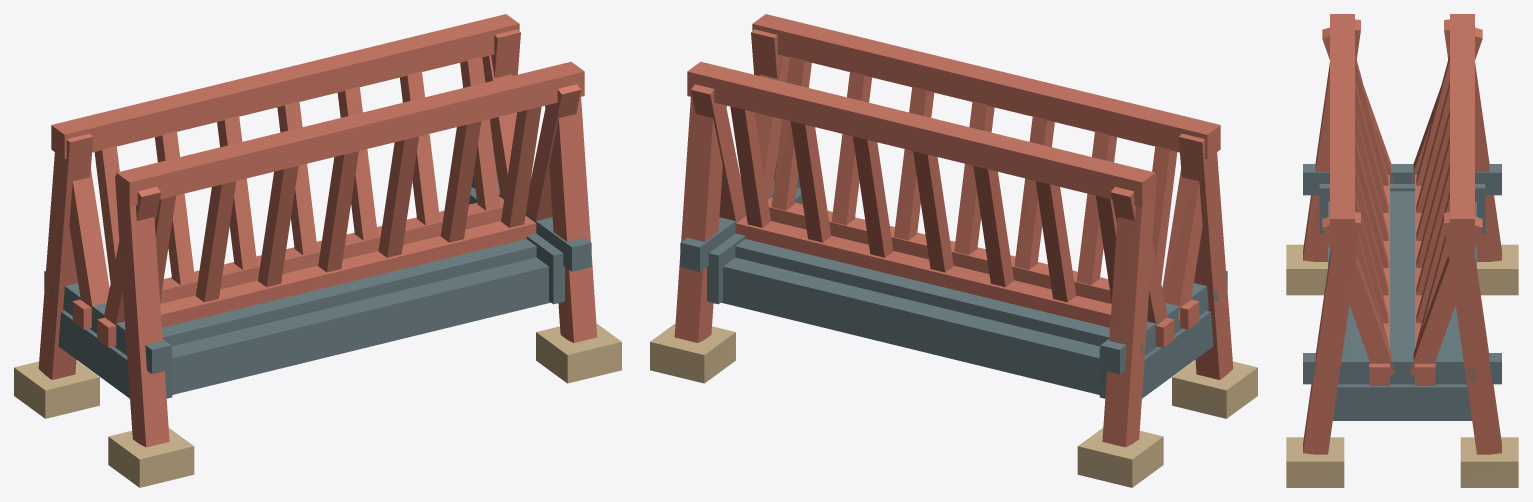
File: hay-rack.source.glb
3 views of the same model, side by side, from view 1: azimuth 30°, elevation 25°; view 2: azimuth 150°, elevation 25°; view 3: azimuth 270°, elevation 25° (orthographic). The views are drawn at different scales.
Visible parts, largest first — view 1: hay-rack-long-galvanized-catch-tray-mesh, hay-rack-top-longitudinal-rail-0.29-mesh, hay-rack-top-longitudinal-rail--0.29-mesh, hay-rack-bottom-longitudinal-rail-0.29-mesh, hay-rack-left-front-splayed-leg-mesh, hay-rack-catch-tray-inset-mesh, hay-rack-right-front-splayed-leg-mesh, hay-rack-left-rear-splayed-leg-mesh, hay-rack-bottom-longitudinal-rail--0.29-mesh, hay-rack-end-v-brace-rear--1.08-mesh, hay-rack-left-front-stone-foot-mesh, hay-rack-right-front-stone-foot-mesh (+22 smaller); view 2: hay-rack-long-galvanized-catch-tray-mesh, hay-rack-top-longitudinal-rail--0.29-mesh, hay-rack-top-longitudinal-rail-0.29-mesh, hay-rack-bottom-longitudinal-rail--0.29-mesh, hay-rack-left-rear-splayed-leg-mesh, hay-rack-catch-tray-inset-mesh, hay-rack-right-rear-splayed-leg-mesh, hay-rack-left-front-splayed-leg-mesh, hay-rack-bottom-longitudinal-rail-0.29-mesh, hay-rack-end-v-brace-front--1.08-mesh, hay-rack-left-rear-stone-foot-mesh, hay-rack-right-rear-stone-foot-mesh (+22 smaller); view 3: hay-rack-right-front-splayed-leg-mesh, hay-rack-right-rear-splayed-leg-mesh, hay-rack-top-longitudinal-rail--0.29-mesh, hay-rack-top-longitudinal-rail-0.29-mesh, hay-rack-long-galvanized-catch-tray-mesh, hay-rack-catch-tray-inset-mesh, hay-rack-end-iron-band-1.08-mesh, hay-rack-right-front-stone-foot-mesh, hay-rack-right-rear-stone-foot-mesh, hay-rack-end-v-brace-front-1.08-mesh, hay-rack-end-v-brace-rear-1.08-mesh, hay-rack-left-front-splayed-leg-mesh (+23 smaller).
Boxes of the visible parts, left/top/right/bottom form: hay-rack-long-galvanized-catch-tray-mesh: left=58, top=257, right=550, bottom=398; hay-rack-top-longitudinal-rail-0.29-mesh: left=116, top=61, right=584, bottom=206; hay-rack-top-longitudinal-rail--0.29-mesh: left=51, top=14, right=519, bottom=158; hay-rack-bottom-longitudinal-rail-0.29-mesh: left=97, top=215, right=536, bottom=347; hay-rack-left-front-splayed-leg-mesh: left=115, top=175, right=169, bottom=447; hay-rack-catch-tray-inset-mesh: left=162, top=239, right=536, bottom=346; hay-rack-right-front-splayed-leg-mesh: left=545, top=97, right=597, bottom=342; hay-rack-left-rear-splayed-leg-mesh: left=38, top=133, right=93, bottom=379; hay-rack-bottom-longitudinal-rail--0.29-mesh: left=72, top=197, right=503, bottom=329; hay-rack-end-v-brace-rear--1.08-mesh: left=69, top=169, right=109, bottom=320; hay-rack-left-front-stone-foot-mesh: left=108, top=428, right=194, bottom=487; hay-rack-right-front-stone-foot-mesh: left=536, top=323, right=621, bottom=383; hay-rack-long-galvanized-catch-tray-mesh: left=721, top=257, right=1213, bottom=398; hay-rack-top-longitudinal-rail--0.29-mesh: left=687, top=61, right=1155, bottom=206; hay-rack-top-longitudinal-rail-0.29-mesh: left=752, top=14, right=1220, bottom=158; hay-rack-bottom-longitudinal-rail--0.29-mesh: left=735, top=215, right=1174, bottom=347; hay-rack-left-rear-splayed-leg-mesh: left=1102, top=175, right=1156, bottom=447; hay-rack-catch-tray-inset-mesh: left=735, top=239, right=1109, bottom=346; hay-rack-right-rear-splayed-leg-mesh: left=674, top=97, right=726, bottom=342; hay-rack-left-front-splayed-leg-mesh: left=1178, top=133, right=1233, bottom=379; hay-rack-bottom-longitudinal-rail-0.29-mesh: left=768, top=197, right=1199, bottom=329; hay-rack-end-v-brace-front--1.08-mesh: left=1162, top=169, right=1202, bottom=320; hay-rack-left-rear-stone-foot-mesh: left=1077, top=428, right=1163, bottom=487; hay-rack-right-rear-stone-foot-mesh: left=650, top=323, right=735, bottom=383; hay-rack-right-front-splayed-leg-mesh: left=1303, top=212, right=1360, bottom=454; hay-rack-right-rear-splayed-leg-mesh: left=1444, top=212, right=1501, bottom=454; hay-rack-top-longitudinal-rail--0.29-mesh: left=1450, top=14, right=1474, bottom=241; hay-rack-top-longitudinal-rail-0.29-mesh: left=1330, top=14, right=1354, bottom=241; hay-rack-long-galvanized-catch-tray-mesh: left=1328, top=201, right=1476, bottom=420; hay-rack-catch-tray-inset-mesh: left=1350, top=191, right=1454, bottom=352; hay-rack-end-iron-band-1.08-mesh: left=1303, top=353, right=1501, bottom=384; hay-rack-right-front-stone-foot-mesh: left=1286, top=437, right=1344, bottom=487; hay-rack-right-rear-stone-foot-mesh: left=1460, top=437, right=1518, bottom=487; hay-rack-end-v-brace-front-1.08-mesh: left=1322, top=216, right=1395, bottom=375; hay-rack-end-v-brace-rear-1.08-mesh: left=1409, top=216, right=1482, bottom=375; hay-rack-left-front-splayed-leg-mesh: left=1303, top=19, right=1360, bottom=261.
Bounding box in the file's own units: 2.48 × 1.4 × 1.12.
